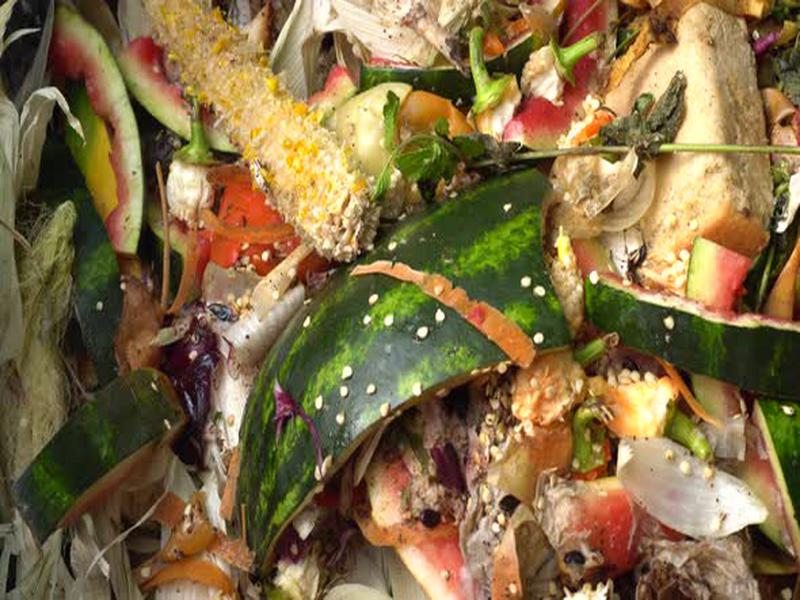vegetation: (7, 11, 796, 600)
